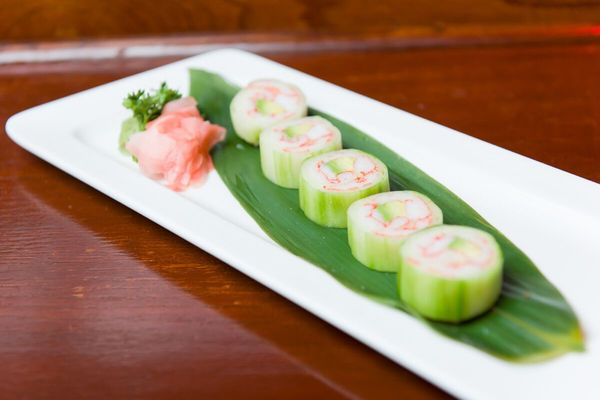curry: (1, 2, 600, 394)
sushi: (297, 147, 391, 229), (259, 116, 342, 189)
